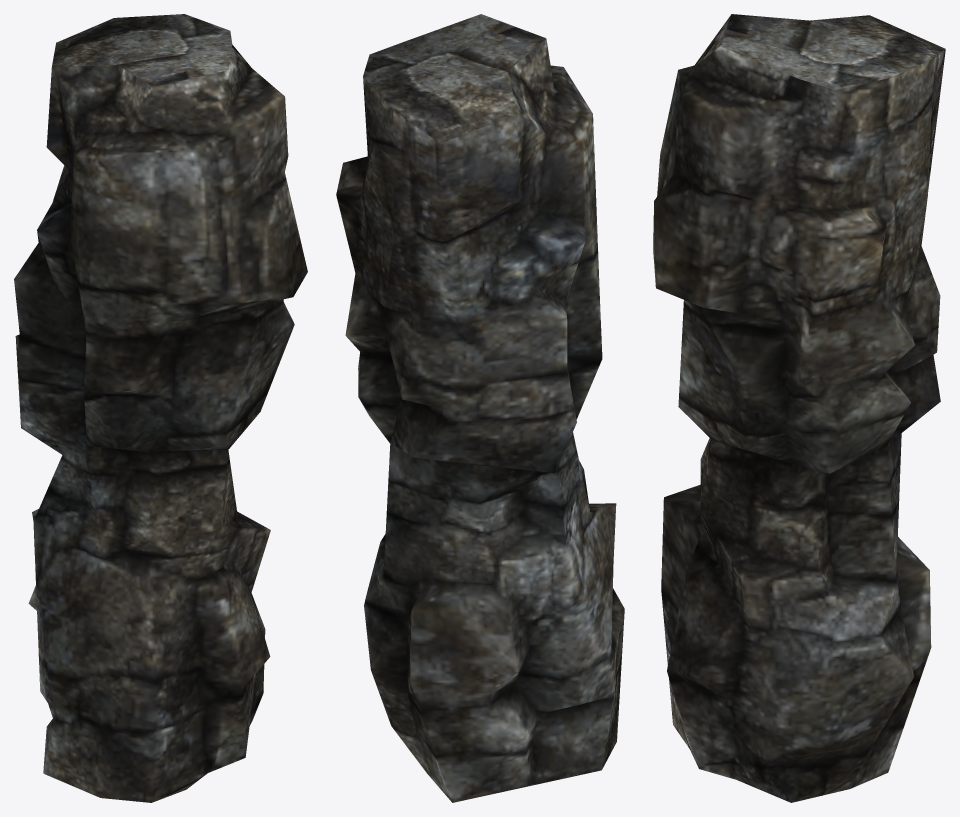
The model's file is Rock9.fbx.
The picture shows the model from 3 angles, left to right: view 1: azimuth 30°, elevation 25°; view 2: azimuth 150°, elevation 25°; view 3: azimuth 270°, elevation 25°; orthographic projection. The views are drawn at different scales.
Parts seen in each view (by area): view 1: Rock9_300tris_polySurface1; view 2: Rock9_300tris_polySurface1; view 3: Rock9_300tris_polySurface1.
Part boxes in pixels (<box>): Rock9_300tris_polySurface1: <box>14,14,307,802</box>; Rock9_300tris_polySurface1: <box>336,14,624,802</box>; Rock9_300tris_polySurface1: <box>653,14,945,802</box>.
Size of the model in its own units: 2.1 by 5.93 by 2.09.
